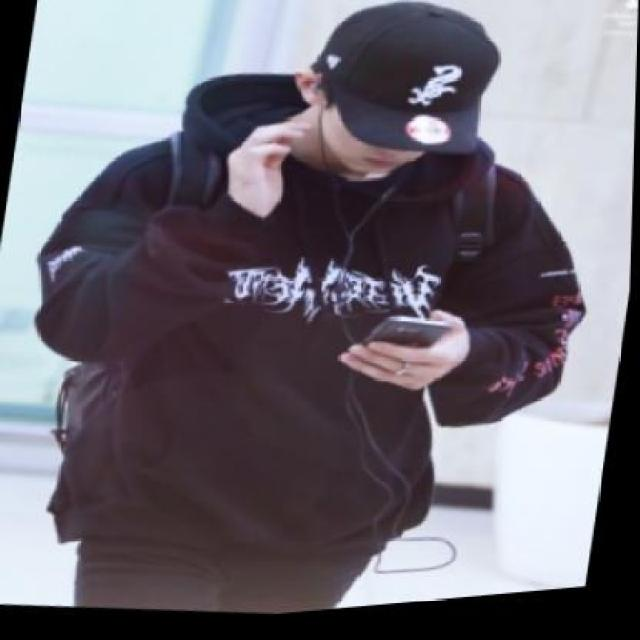hat: (297, 0, 520, 183)
